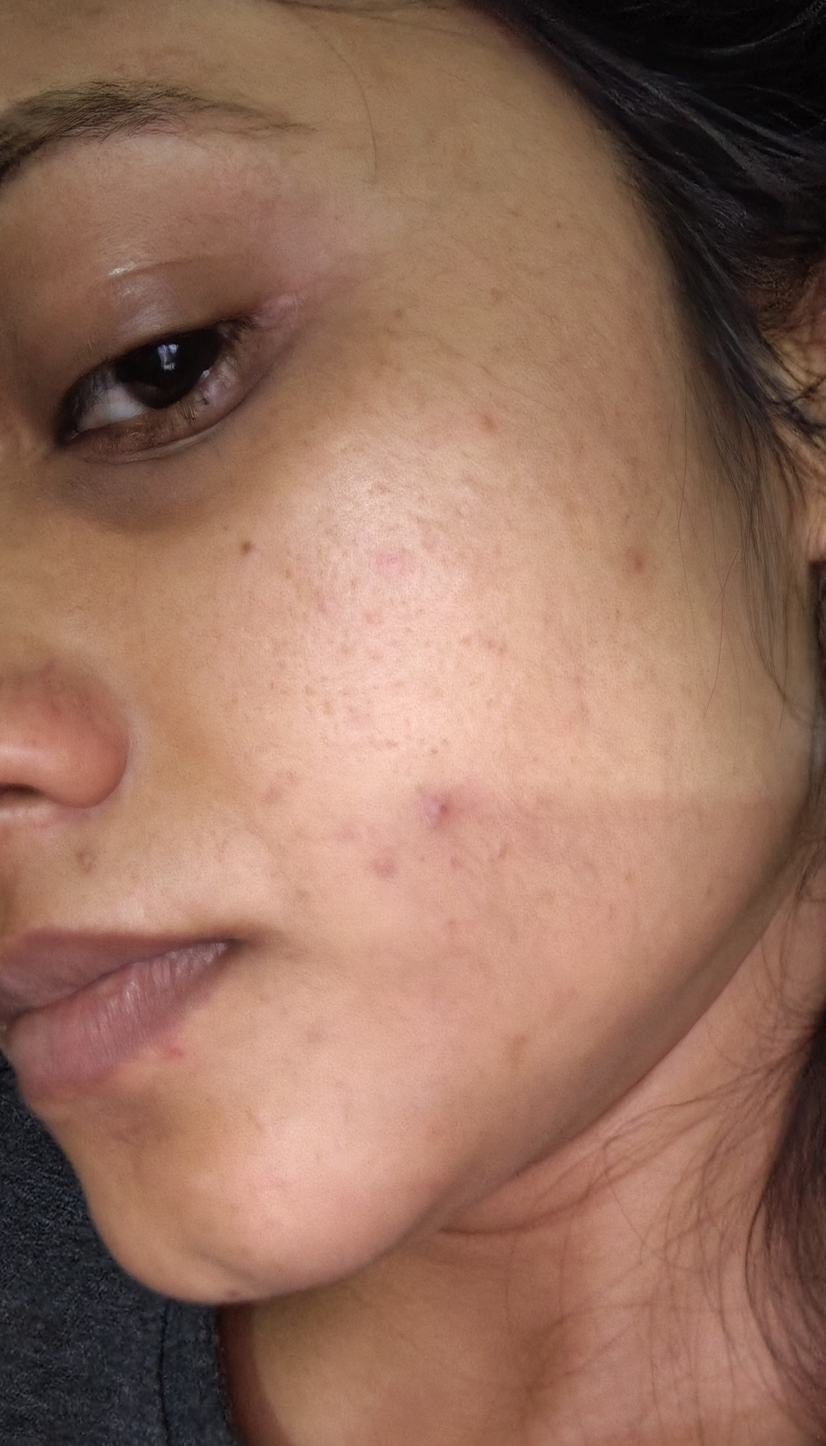papule: (349, 835, 437, 926), (394, 780, 499, 856)
